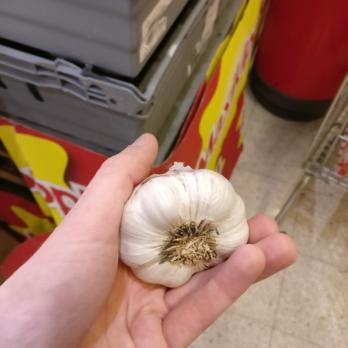Garlic: (118, 162, 249, 287)
